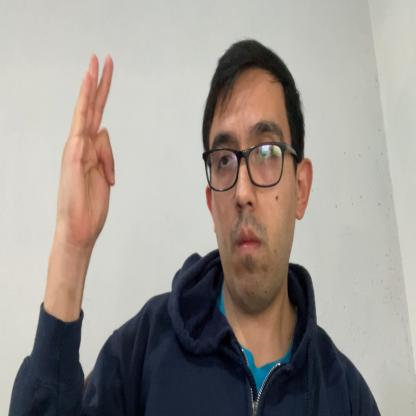F: (58, 54, 116, 232)
